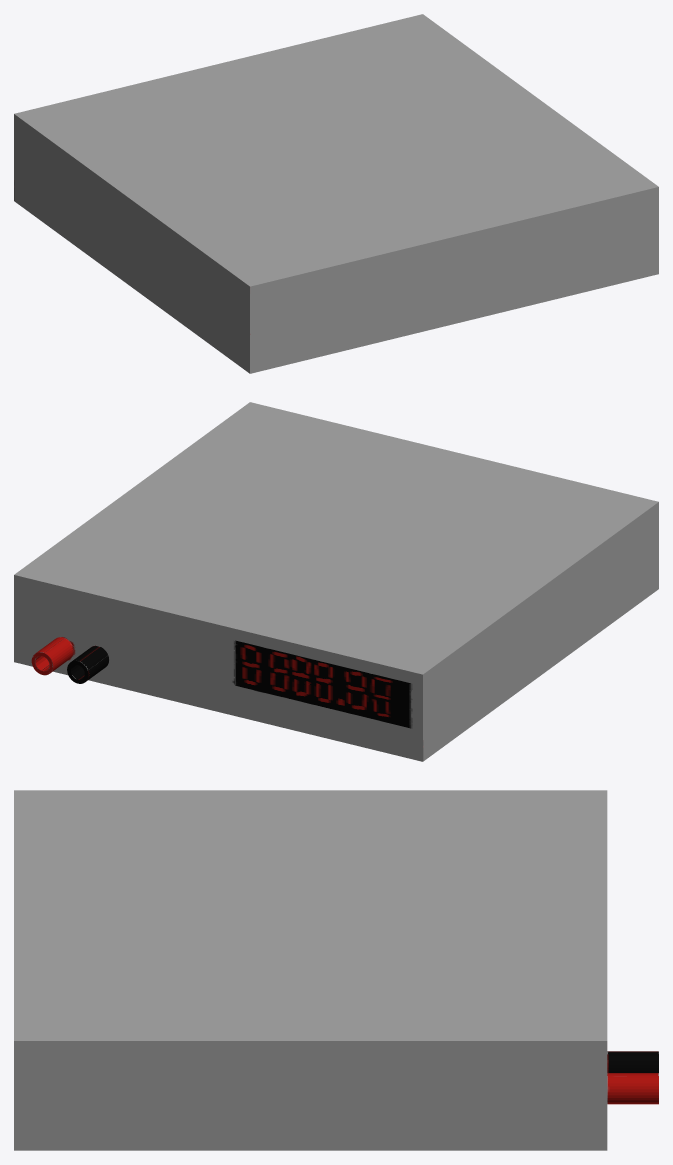
Rendered from FINALVOLTAGE.fbx.
The picture shows the model from 3 angles, top to bottom: view 1: azimuth 30°, elevation 25°; view 2: azimuth 150°, elevation 25°; view 3: azimuth 270°, elevation 25°; orthographic projection. The views are drawn at different scales.
Parts seen in each view (by area): view 1: Cube; view 2: Cube; view 3: Cube.
Part boxes in pixels (bbox=[...]): Cube: bbox=[14, 14, 658, 373]; Cube: bbox=[14, 402, 658, 761]; Cube: bbox=[14, 790, 658, 1150].
Size of the model in its own units: 2 by 0.4079 by 2.17.
